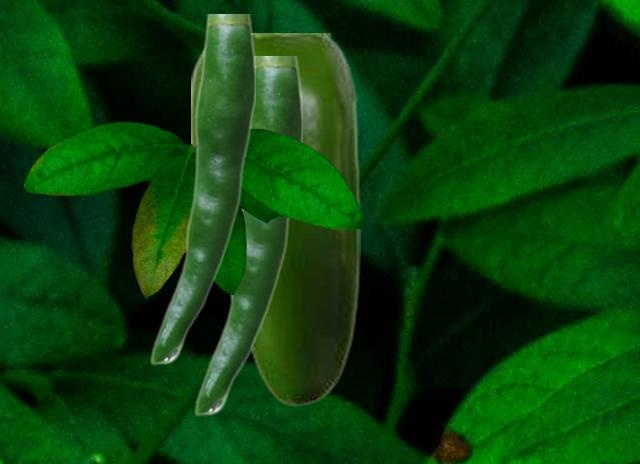green_chili: (191, 33, 359, 406), (193, 56, 301, 415), (149, 14, 254, 364)
